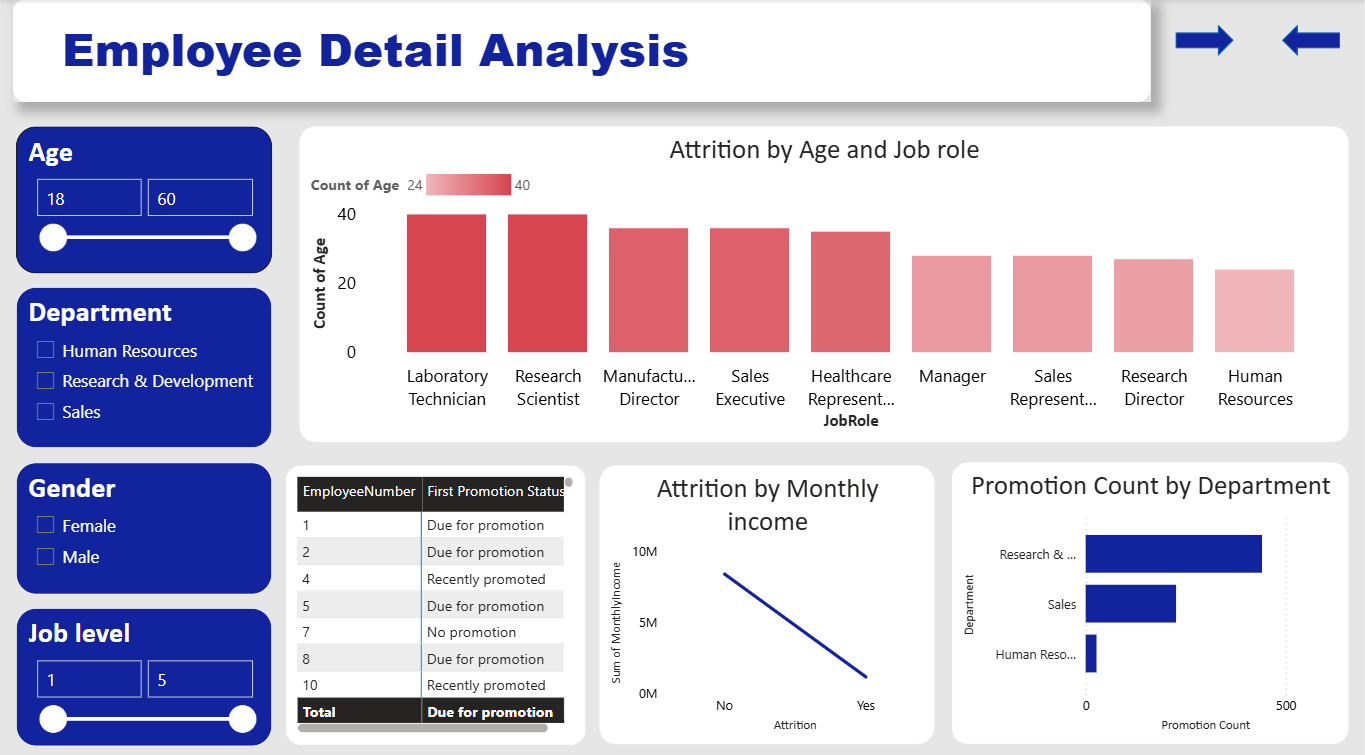

What the dashboard file says about the page in this screenshot:
{"tool":"powerbi","page":{"name":"Details","canvas":[1280,720],"ordinal":1},"visuals":[{"type":"shape","box":[10.9,0,1069.1,96.9],"z":0},{"type":"textbox","box":[26.6,0,665.8,96.9],"z":1000},{"type":"slicer","title":"Age","fields":{"Values":["HR Analytics Data.Age"]},"box":[13.6,119.6,240.8,137.8],"z":2000},{"type":"slicer","title":"Department","fields":{"Values":["HR Analytics Data.Department"]},"box":[13.6,270.5,240.8,151.4],"z":3000},{"type":"slicer","title":"Gender","fields":{"Values":["HR Analytics Data.Gender"]},"box":[13.6,435.1,240.8,124.2],"z":4000},{"type":"columnChart","title":"Attrition   by Age and Job role","fields":{"Category":["HR Analytics Data.JobRole"],"Y":["Count(HR Analytics Data.Age)"]},"box":[280.1,119.6,985.7,296.8],"z":5000},{"type":"barChart","fields":{"Category":["HR Analytics Data.Department"],"Y":["HR Analytics Data.Promotion Count"]},"box":[893.4,436.1,372.5,265],"z":6000},{"type":"lineChart","title":" Attrition by Monthly income","fields":{"Category":["HR Analytics Data.Attrition"],"Y":["Sum(HR Analytics Data.MonthlyIncome)"]},"box":[562.5,439.1,315,262],"z":7000},{"type":"pivotTable","fields":{"Rows":["HR Analytics Data.EmployeeNumber"],"Values":["Min(HR Analytics Data.Promotion Status)"]},"box":[267.3,439.2,281.3,262.6],"z":8000},{"type":"slicer","title":"Job level","fields":{"Values":["HR Analytics Data.JobLevel"]},"box":[13.6,572.4,240.8,130.2],"z":9000},{"type":"shape","box":[1203.5,23.4,54.7,29.7],"z":10000},{"type":"shape","box":[1103.5,23.4,54.7,29.7],"z":11000}]}

Visuals, with their boxes in screenshot pixels (x1, y1, x2, y2), scaled from the page's 1280x720 canvas onto the 1365x755 screenshot:
shape: [12, 0, 1152, 102]
textbox: [28, 0, 738, 102]
"Age" slicer: [15, 125, 271, 270]
"Department" slicer: [15, 284, 271, 442]
"Gender" slicer: [15, 456, 271, 586]
"Attrition   by Age and Job role" columnChart: [299, 125, 1350, 437]
barChart - HR Analytics Data.Department x HR Analytics Data.Promotion Count: [953, 457, 1350, 735]
" Attrition by Monthly income" lineChart: [600, 460, 936, 735]
pivotTable - HR Analytics Data.EmployeeNumber x Min(HR Analytics Data.Promotion Status): [285, 461, 585, 736]
"Job level" slicer: [15, 600, 271, 737]
shape: [1283, 25, 1342, 56]
shape: [1177, 25, 1235, 56]
